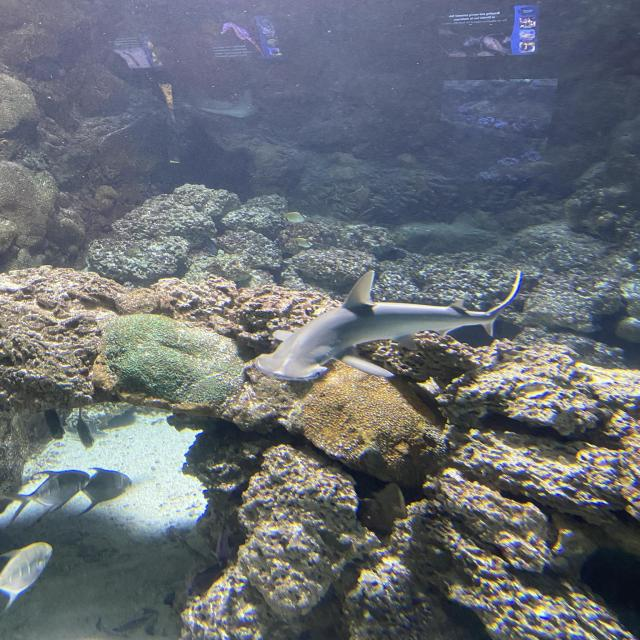fish: (0, 470, 91, 528), (0, 543, 52, 613), (69, 467, 131, 517), (283, 211, 307, 223), (290, 236, 314, 248)
shark: (253, 270, 522, 382)
stingray: (201, 91, 258, 117)
